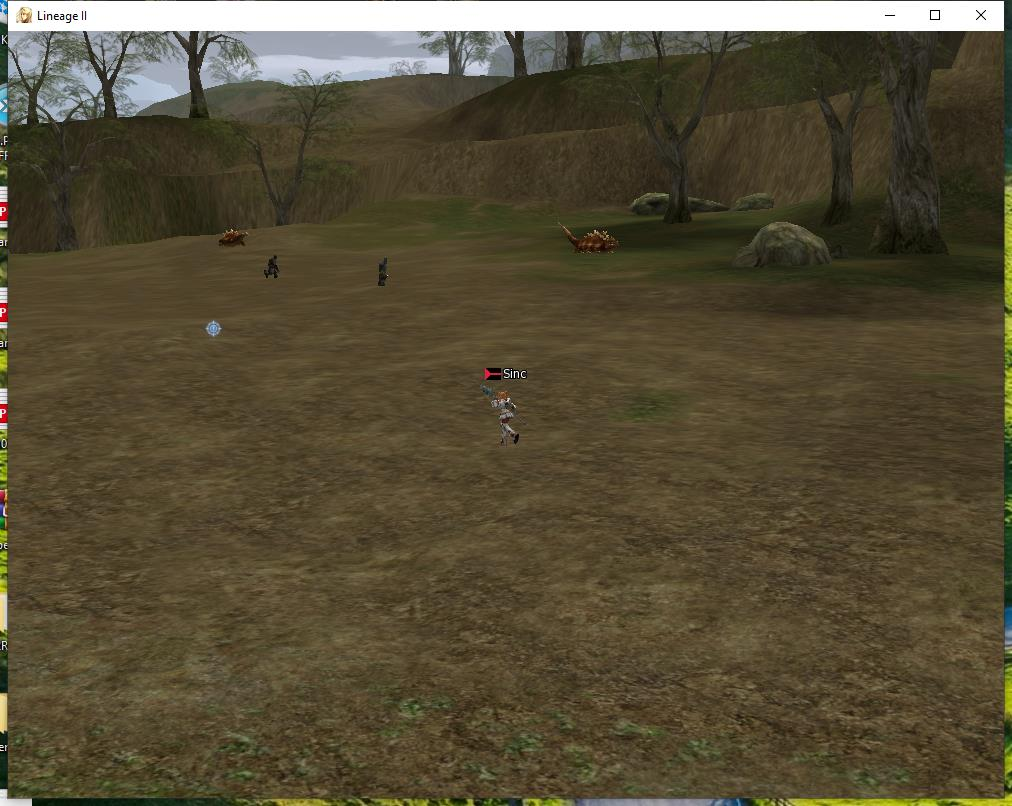monster: (555, 214, 628, 254), (372, 252, 400, 282), (218, 225, 250, 245), (264, 255, 286, 280)
